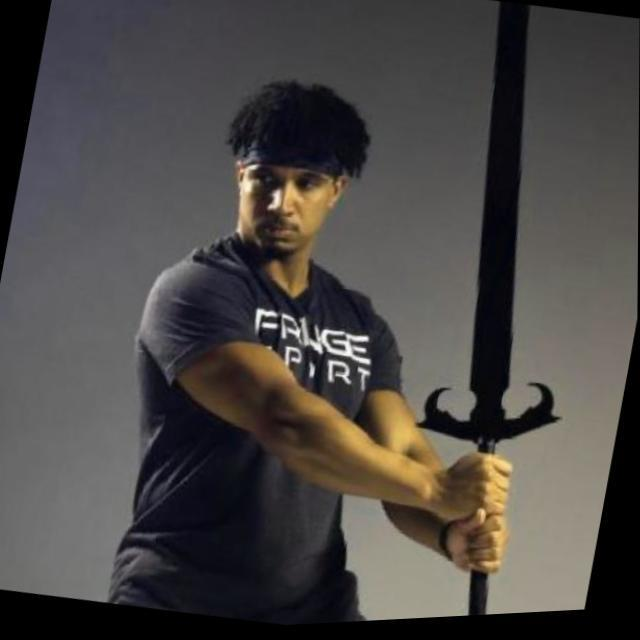weapon: (371, 0, 632, 625)
